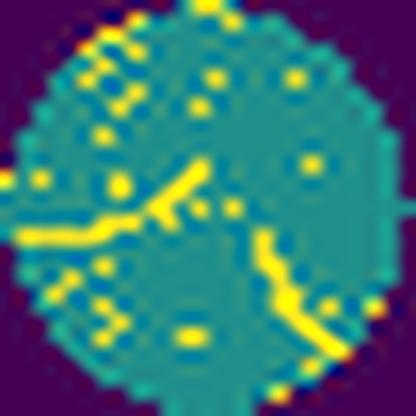Scratch: (11, 152, 222, 260), (244, 223, 356, 363)
